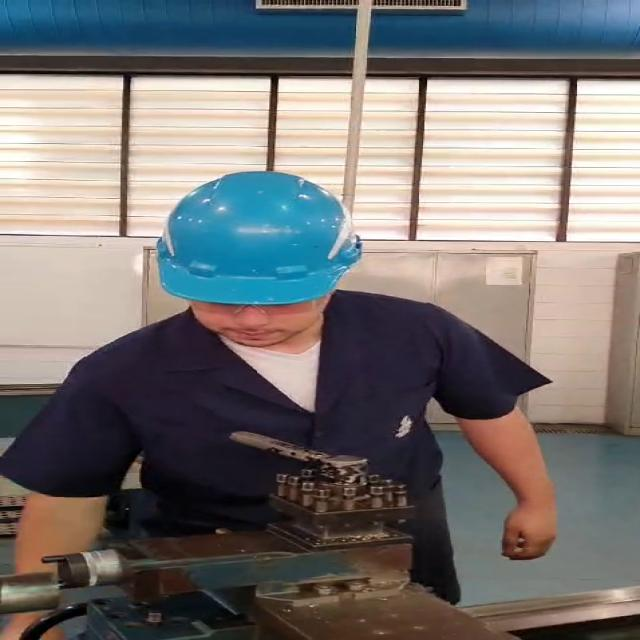oculos-epi: (194, 299, 325, 316)
